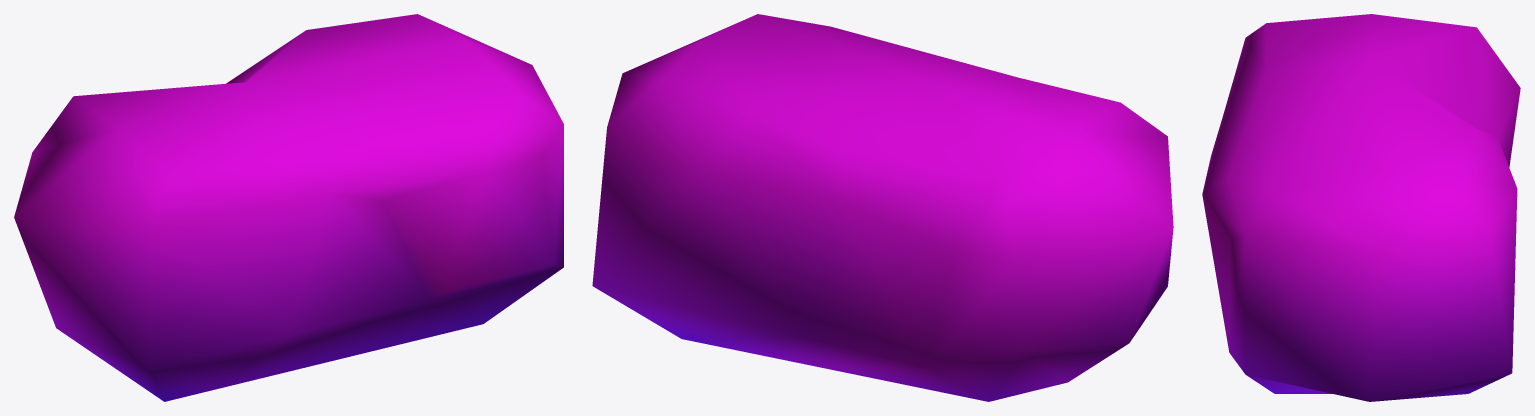
Rendered from SM_Stone_01.FBX.
The picture shows the model from 3 angles, left to right: view 1: azimuth 30°, elevation 25°; view 2: azimuth 150°, elevation 25°; view 3: azimuth 270°, elevation 25°; orthographic projection. The views are drawn at different scales.
Parts seen in each view (by area): view 1: SM_Stone_01; view 2: SM_Stone_01; view 3: SM_Stone_01.
Boxes of the visible parts, bbox=[...] form: SM_Stone_01: bbox=[14, 14, 563, 401]; SM_Stone_01: bbox=[592, 14, 1173, 401]; SM_Stone_01: bbox=[1202, 14, 1520, 401].
Bounding box in the file's own units: 145 × 75.74 × 64.35.
